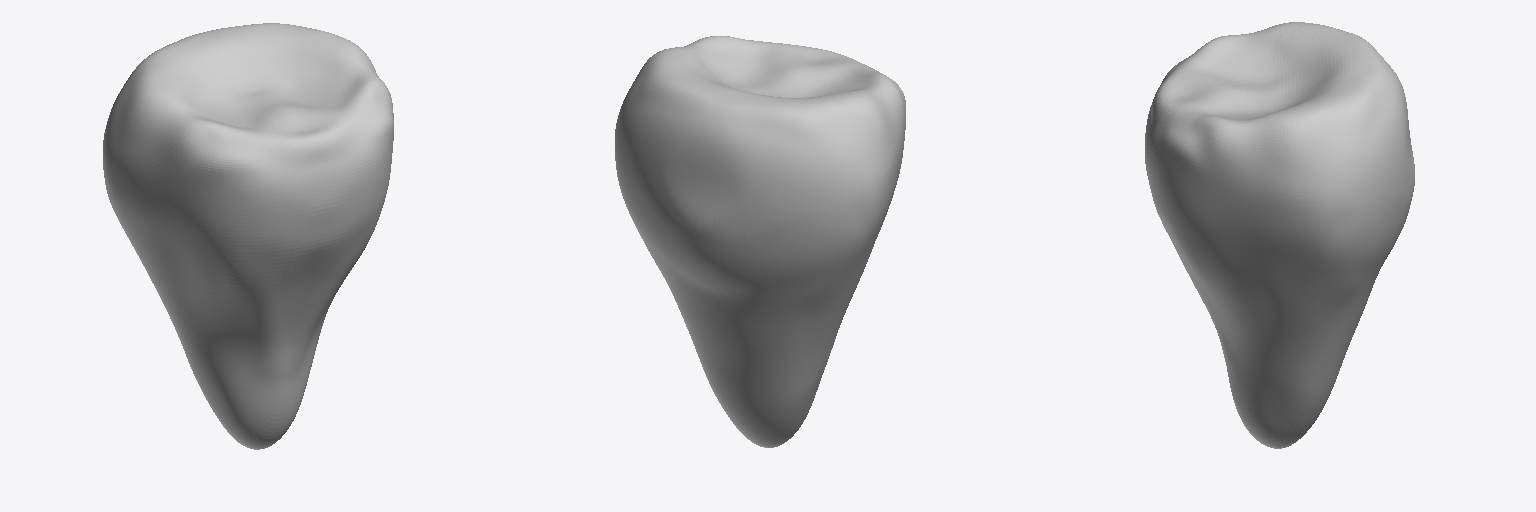
Rendered from tooth3.OBJ.
The picture shows the model from 3 angles: view 1: azimuth 30°, elevation 25°; view 2: azimuth 150°, elevation 25°; view 3: azimuth 270°, elevation 25°; orthographic projection.
Visible parts, largest first — view 1: ZBrush_defualt_group; view 2: ZBrush_defualt_group; view 3: ZBrush_defualt_group.
Part boxes in pixels (x1,y1,x2,y2): ZBrush_defualt_group: (103, 23, 393, 449); ZBrush_defualt_group: (615, 36, 905, 447); ZBrush_defualt_group: (1145, 22, 1414, 448).
Size of the model in its own units: 1.07 by 1.51 by 0.9713.